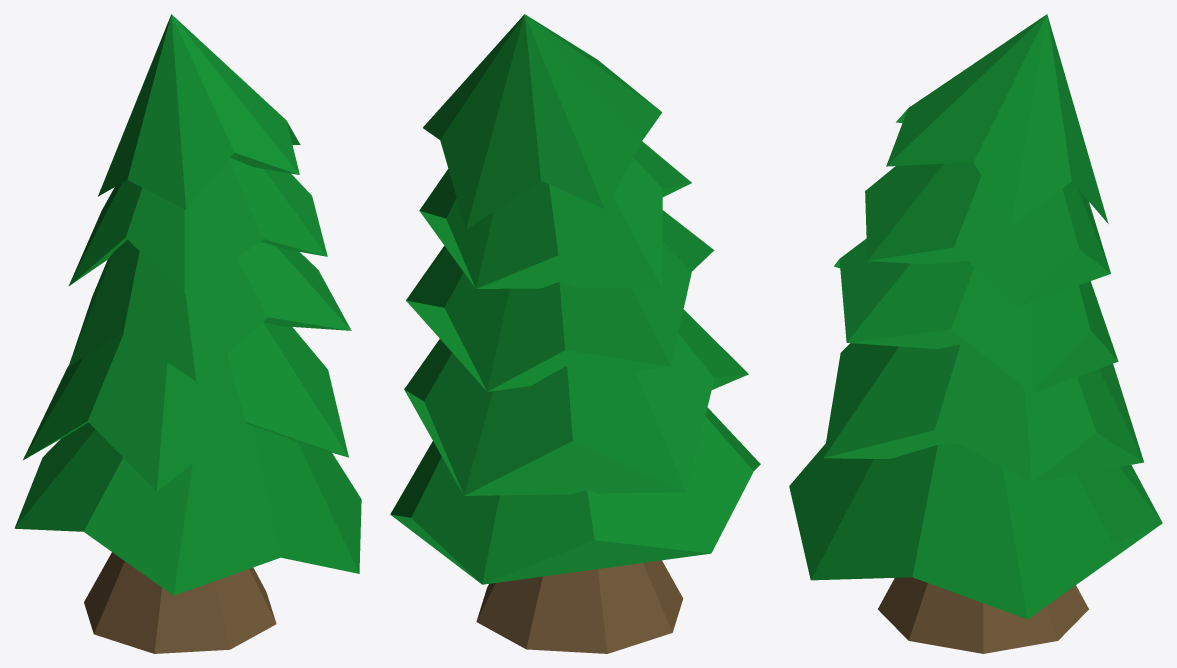
The model's file is PineTree_9.fbx.
The picture shows the model from 3 angles, left to right: view 1: azimuth 30°, elevation 25°; view 2: azimuth 150°, elevation 25°; view 3: azimuth 270°, elevation 25°; orthographic projection. The views are drawn at different scales.
Parts seen in each view (by area): view 1: Cone.001, Cone.002, Cone.003, Cone.004, Cone, Cylinder; view 2: Cone.002, Cone.001, Cone.004, Cone.003, Cone, Cylinder; view 3: Cone.001, Cone.002, Cone.004, Cone.003, Cone, Cylinder.
Boxes of the visible parts, bbox=[...] form: Cone.001: bbox=[14, 422, 361, 595]; Cone.002: bbox=[23, 322, 348, 491]; Cone.003: bbox=[68, 240, 351, 381]; Cone.004: bbox=[98, 14, 300, 209]; Cone: bbox=[68, 158, 327, 294]; Cylinder: bbox=[84, 552, 276, 653]; Cone.002: bbox=[404, 309, 748, 495]; Cone.001: bbox=[390, 407, 760, 584]; Cone.004: bbox=[423, 14, 662, 229]; Cone.003: bbox=[406, 210, 714, 391]; Cone: bbox=[419, 141, 691, 288]; Cylinder: bbox=[476, 560, 683, 653]; Cone.001: bbox=[789, 444, 1162, 619]; Cone.002: bbox=[823, 343, 1143, 482]; Cone.004: bbox=[886, 14, 1108, 226]; Cone.003: bbox=[834, 238, 1118, 393]; Cone: bbox=[865, 162, 1110, 307]; Cylinder: bbox=[878, 577, 1088, 653].
Size of the model in its own units: 189 by 344 by 192.
